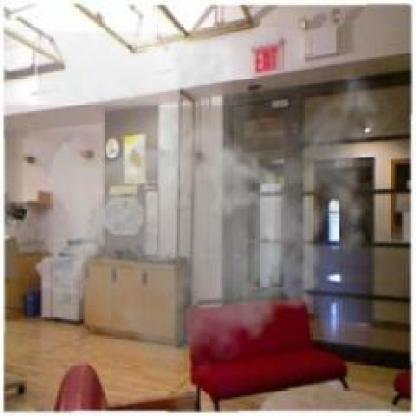Smoke: (36, 31, 390, 388)
